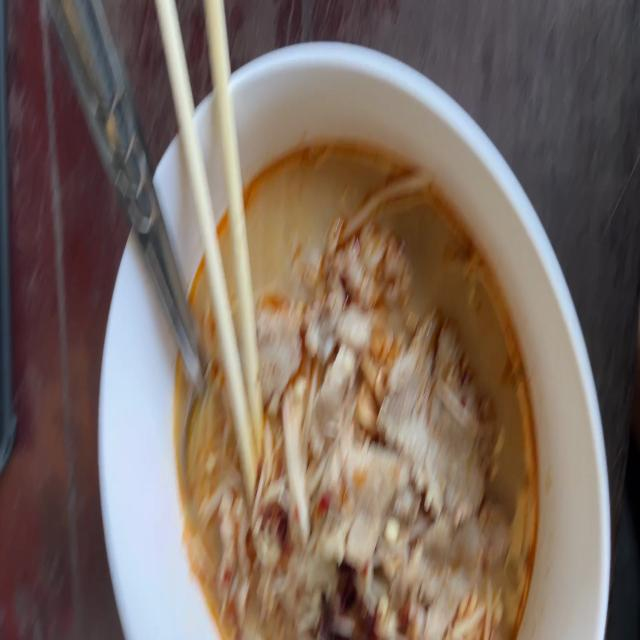noodle: (166, 117, 555, 640)
